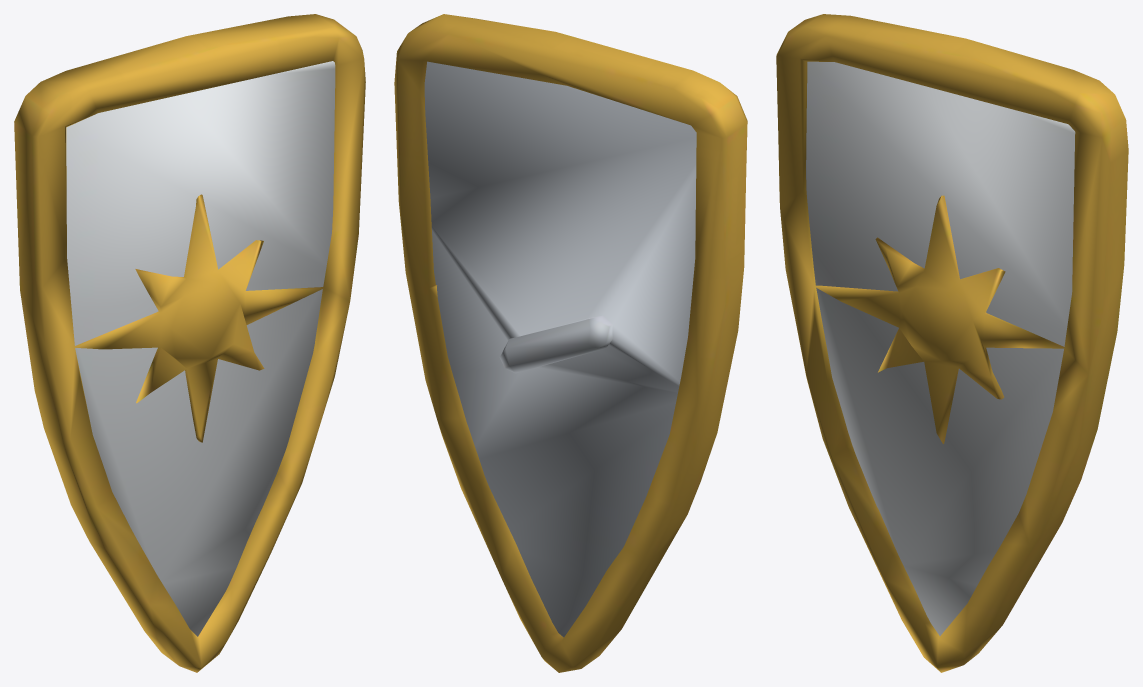
Rendered from paladin-shield.glb.
3 views of the same model, side by side, from view 1: azimuth 30°, elevation 25°; view 2: azimuth 150°, elevation 25°; view 3: azimuth 330°, elevation 25° (orthographic).
Visible parts, largest first — view 1: shield; view 2: shield; view 3: shield.
Part boxes in pixels (x1,y1,x2,y2): shield: (14,14,365,672); shield: (394,14,747,672); shield: (776,14,1128,672).
Size of the model in its own units: 0.2551 by 0.4546 by 0.0524.
Materials: 1 (1 with a texture image).
